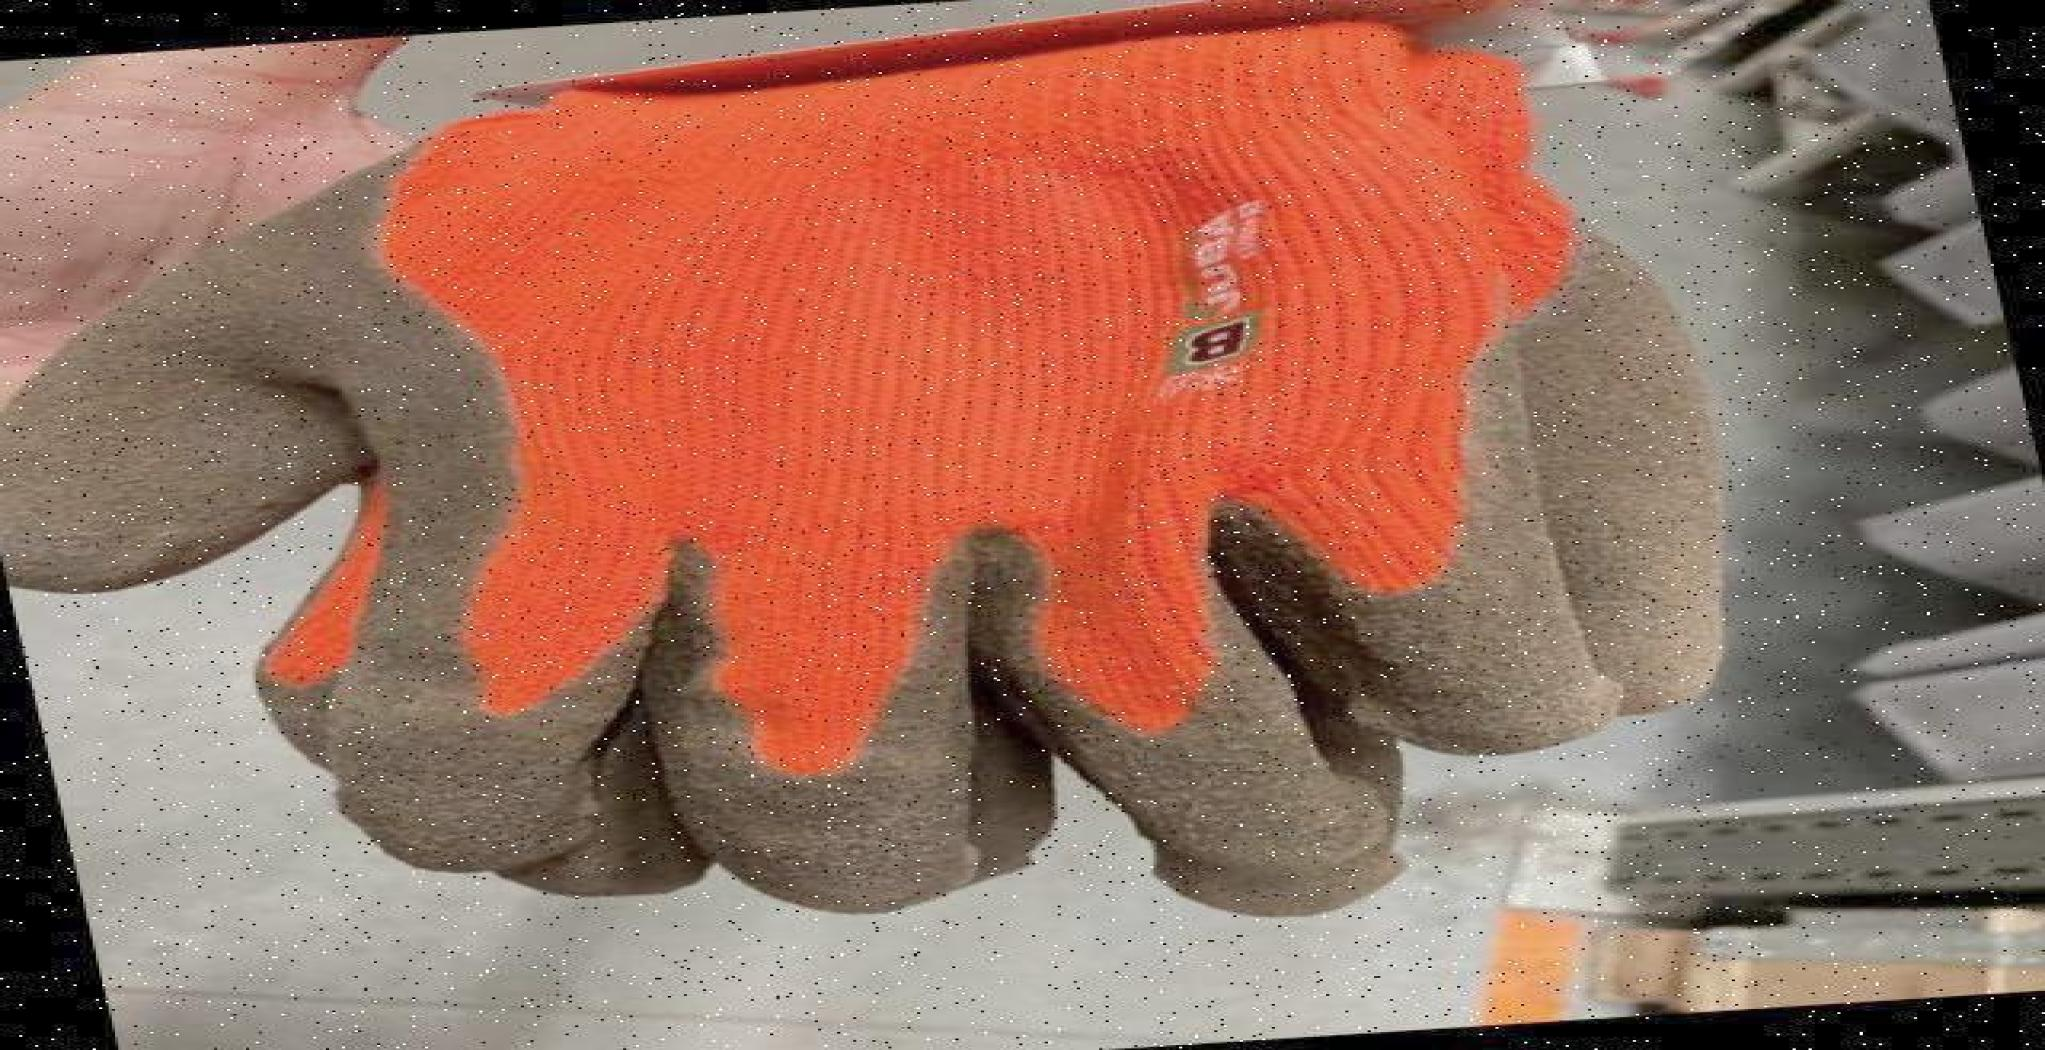gloved: (186, 0, 1787, 887)
